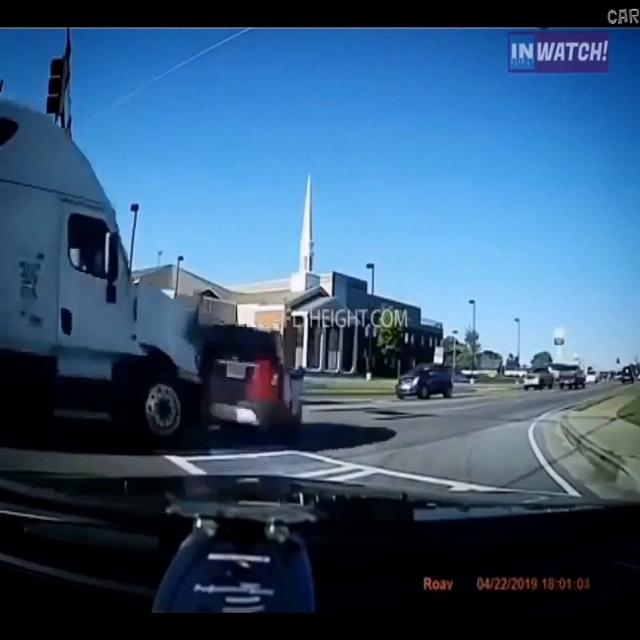accident: (1, 86, 304, 438)
